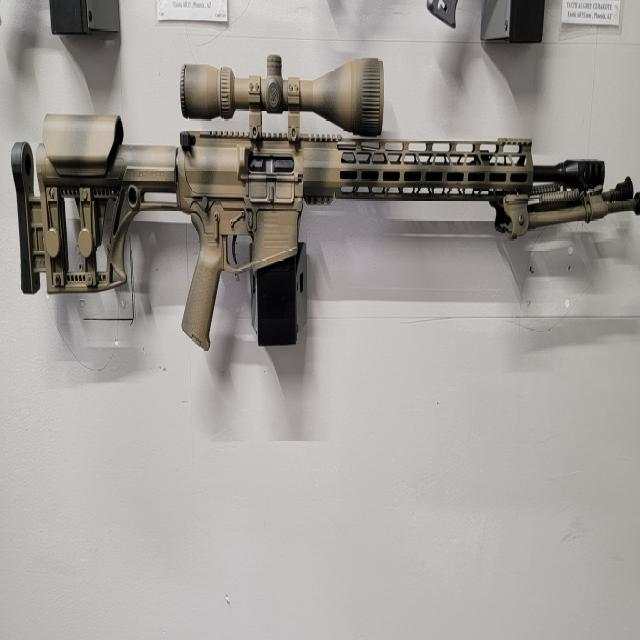Rifle: (11, 56, 606, 350)
